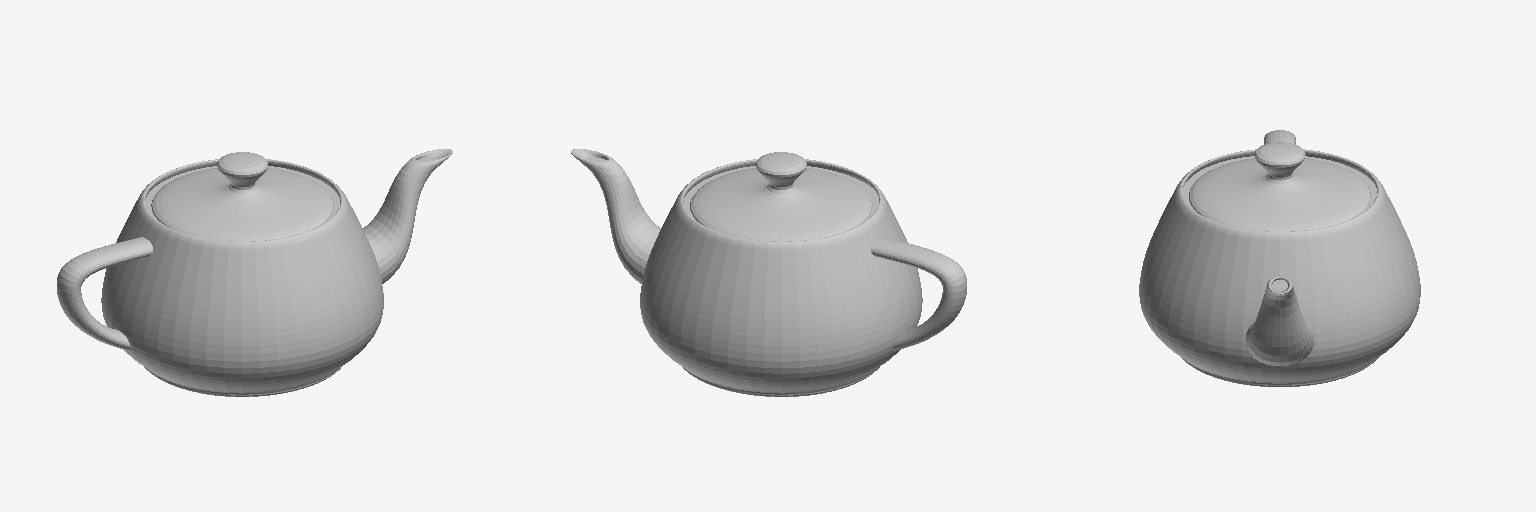
The model's file is teapot.obj.
3 renders of one model, left to right at view 1: azimuth 30°, elevation 25°; view 2: azimuth 150°, elevation 25°; view 3: azimuth 270°, elevation 25°, orthographic.
Parts seen in each view (by area): view 1: teapot; view 2: teapot; view 3: teapot.
Boxes of the visible parts, box(x1,y1,x2,y2) form: teapot: box(57, 149, 452, 396); teapot: box(571, 149, 966, 396); teapot: box(1139, 130, 1420, 386).
Bounding box in the file's own units: 17.58 × 8.57 × 10.93.